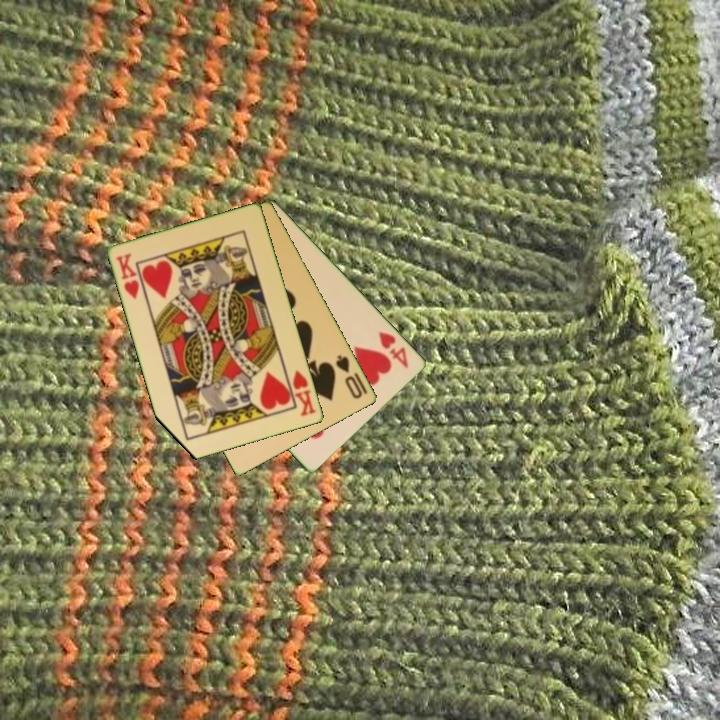10s: (333, 351, 366, 402)
4h: (375, 328, 412, 371)
Kh: (283, 367, 320, 419), (113, 250, 143, 302)
